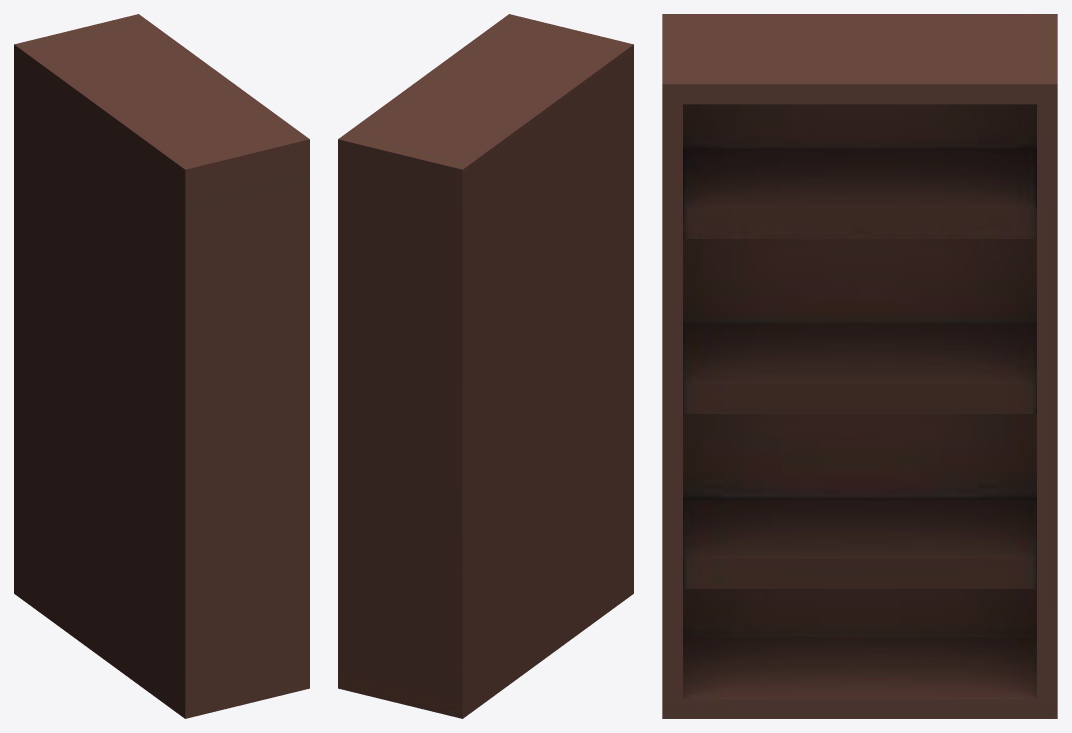
File: bliblio.fbx
3 renders of one model, left to right at view 1: azimuth 30°, elevation 25°; view 2: azimuth 150°, elevation 25°; view 3: azimuth 270°, elevation 25°, orthographic. The views are drawn at different scales.
Parts seen in each view (by area): view 1: Cube; view 2: Cube; view 3: Cube.
Part boxes in pixels (box(x1,y1,x2,y2)): Cube: box(14, 14, 309, 718); Cube: box(338, 14, 633, 718); Cube: box(662, 14, 1057, 718).
Bounding box in the file's own units: 172 × 725 × 410.
Materials: 1 (1 with a texture image).
